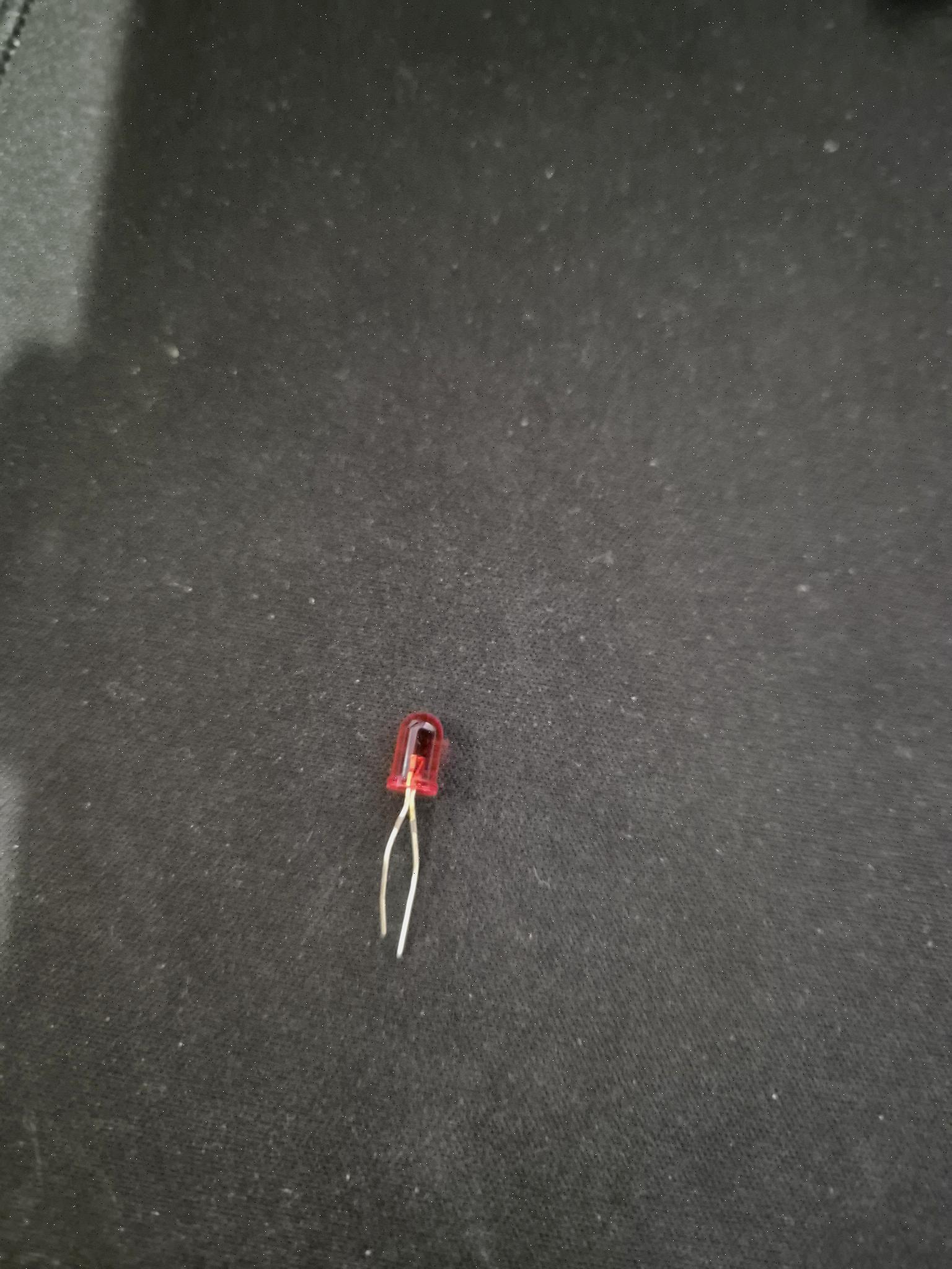led-diode: (380, 712, 445, 957)
